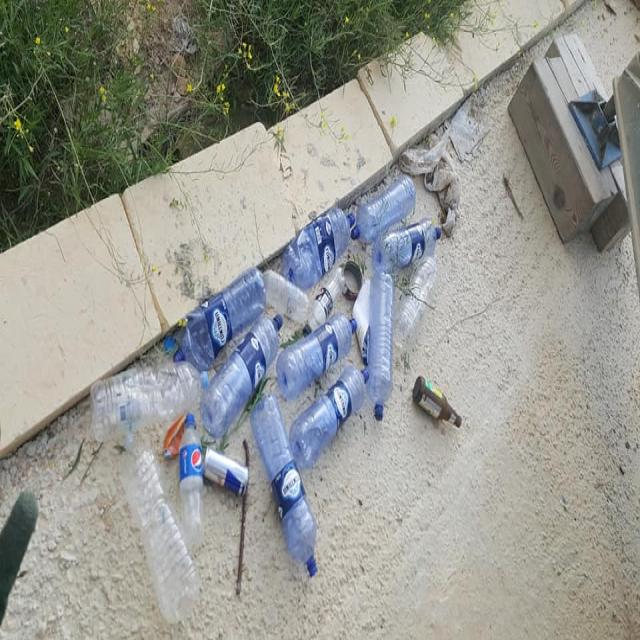Bottle: (119, 448, 198, 622), (250, 396, 319, 579), (201, 315, 283, 442), (92, 362, 211, 443), (174, 270, 267, 368), (290, 367, 369, 469), (273, 313, 359, 401), (286, 202, 354, 288), (394, 253, 443, 345), (352, 175, 416, 244), (369, 217, 441, 270), (368, 275, 394, 417), (179, 414, 203, 543), (302, 266, 346, 336), (255, 268, 308, 324), (412, 374, 460, 429)
Bottle cap: (163, 331, 175, 357)
Can: (204, 444, 250, 496), (162, 417, 185, 458)
Other plastic: (394, 95, 488, 239), (342, 259, 364, 300)
